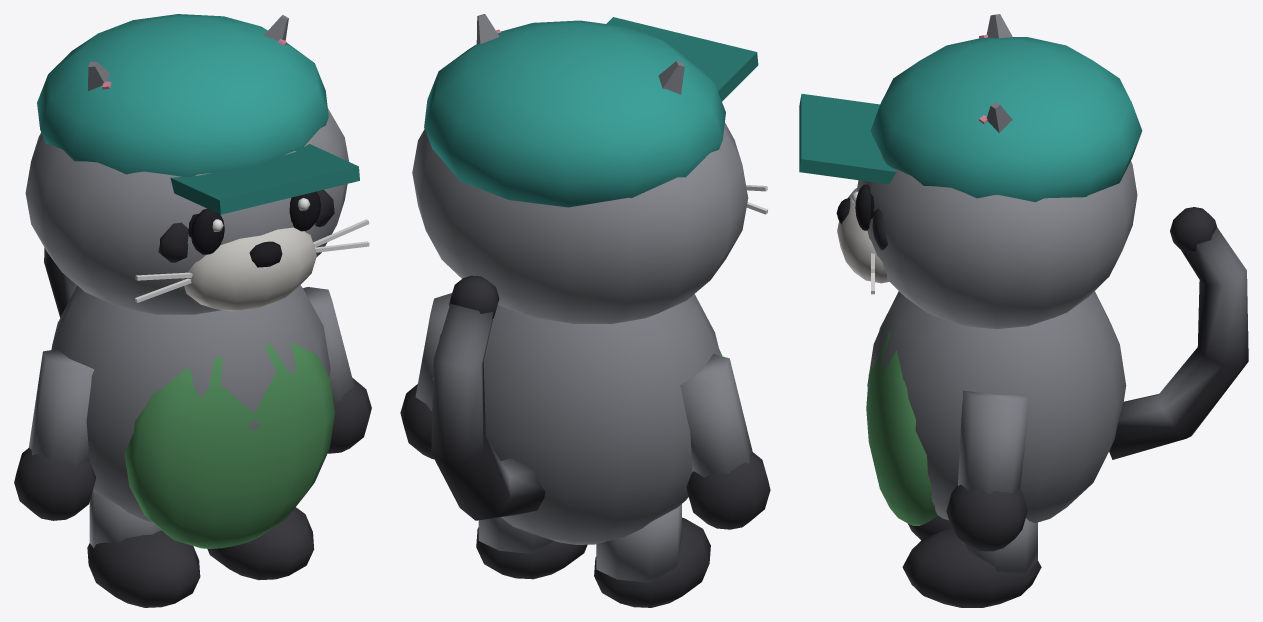
Rendered from raccoon-DDBYDGXx.glb.
The picture shows the model from 3 angles, left to right: view 1: azimuth 30°, elevation 25°; view 2: azimuth 150°, elevation 25°; view 3: azimuth 270°, elevation 25°; orthographic projection. The views are drawn at different scales.
Parts seen in each view (by area): view 1: hat, head, apron, body, arm_R, leg_R, arm_L, leg_L, tail; view 2: hat, body, head, tail, arm_R, leg_R, leg_L, arm_L; view 3: hat, head, body, tail, arm_L, leg_L, apron.
Boxes of the visible parts, <box> form: hat: <box>37,14,359,214</box>; head: <box>25,15,369,314</box>; apron: <box>124,342,334,548</box>; body: <box>51,285,330,521</box>; arm_R: <box>14,349,96,520</box>; leg_R: <box>87,491,200,607</box>; arm_L: <box>303,287,371,453</box>; leg_L: <box>207,507,314,580</box>; tail: <box>44,247,77,317</box>; hat: <box>424,17,758,207</box>; body: <box>432,294,720,544</box>; head: <box>412,14,768,323</box>; tail: <box>431,275,545,520</box>; arm_R: <box>680,354,770,529</box>; leg_R: <box>594,504,710,607</box>; leg_L: <box>476,517,587,579</box>; arm_L: <box>400,293,451,459</box>; hat: <box>799,37,1142,202</box>; head: <box>836,14,1137,329</box>; body: <box>867,291,1126,523</box>; tail: <box>1109,207,1248,459</box>; arm_L: <box>946,390,1029,551</box>; leg_L: <box>902,518,1041,607</box>; apron: <box>866,308,937,525</box>.
Size of the model in its own units: 0.7902 by 1.18 by 0.9264.
